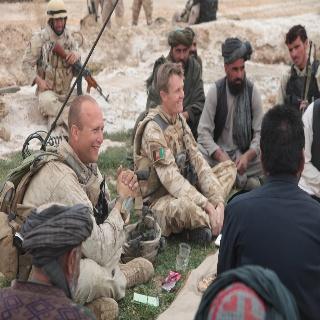rifle: (51, 39, 111, 104)
